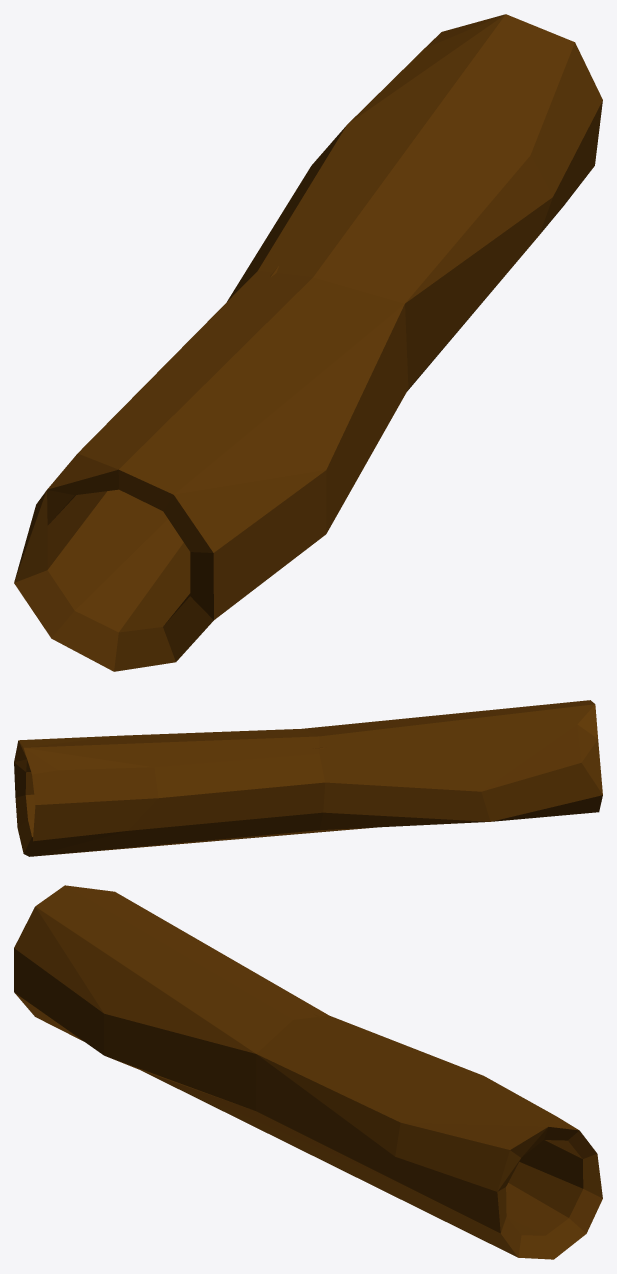
Rendered from Trunk#3.fbx.
3 renders of one model, top to bottom at view 1: azimuth 30°, elevation 25°; view 2: azimuth 150°, elevation 25°; view 3: azimuth 270°, elevation 25°, orthographic. The views are drawn at different scales.
Visible parts, largest first — view 1: Trunk#3; view 2: Trunk#3; view 3: Trunk#3.
Part boxes in pixels (x1,y1,x2,y2): Trunk#3: (14, 14, 602, 671); Trunk#3: (14, 700, 602, 856); Trunk#3: (14, 885, 602, 1259).
Bounding box in the file's own units: 470 × 105 × 419.
